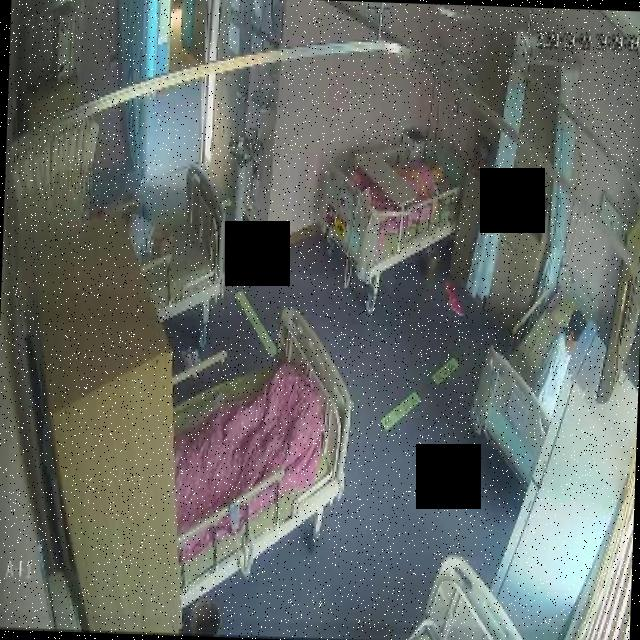bed: (166, 304, 356, 576), (304, 114, 464, 308), (467, 284, 592, 491), (124, 162, 230, 324)
patient: (524, 287, 580, 423)
